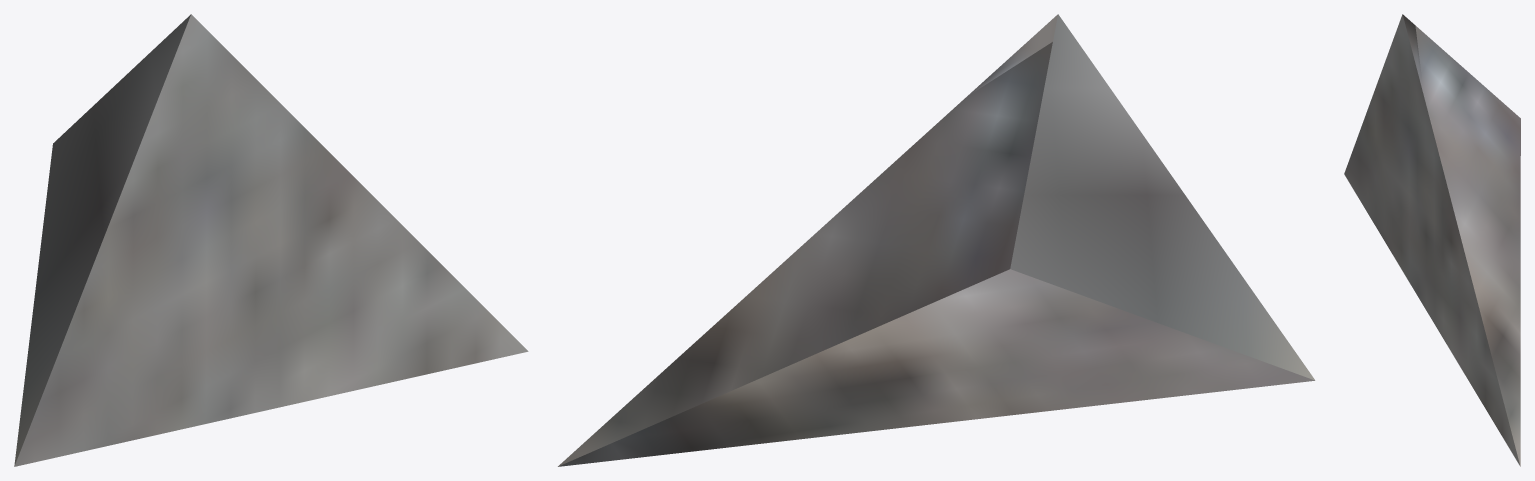
File: Asteroid_Medium_001_02_005_03_002.fbx
3 views of the same model, side by side, from view 1: azimuth 30°, elevation 25°; view 2: azimuth 150°, elevation 25°; view 3: azimuth 270°, elevation 25° (orthographic). The views are drawn at different scales.
Visible parts, largest first — view 1: Asteroid_Medium_001_02_005_03_002; view 2: Asteroid_Medium_001_02_005_03_002; view 3: Asteroid_Medium_001_02_005_03_002.
Boxes of the visible parts, left/top/right/bottom form: Asteroid_Medium_001_02_005_03_002: left=14, top=14, right=528, bottom=466; Asteroid_Medium_001_02_005_03_002: left=558, top=14, right=1315, bottom=466; Asteroid_Medium_001_02_005_03_002: left=1344, top=14, right=1520, bottom=466.
Size of the model in its own units: 0.9604 by 0.7169 by 0.3578.
